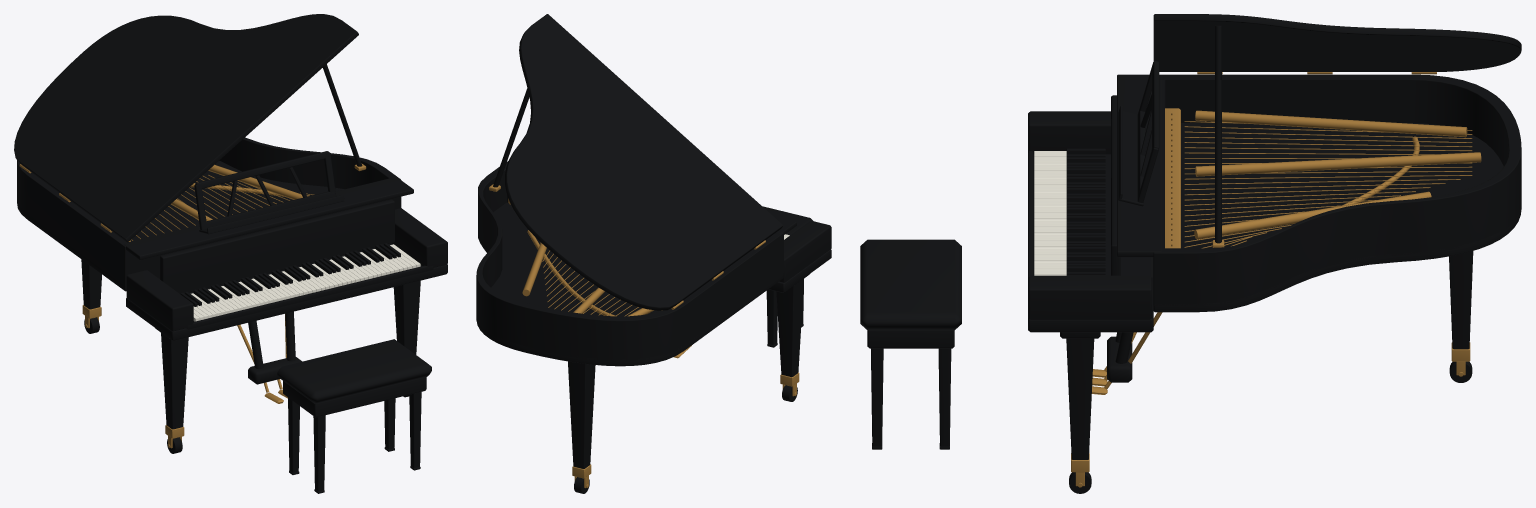
3 renders of one model, left to right at view 1: azimuth 30°, elevation 25°; view 2: azimuth 150°, elevation 25°; view 3: azimuth 270°, elevation 25°, orthographic. The views are drawn at different scales.
Parts seen in each view (by area): view 1: MESH_Black_lacquer, MESH_Ivory_keys, MESH_Warm_brass; view 2: MESH_Black_lacquer, MESH_Warm_brass; view 3: MESH_Black_lacquer, MESH_Warm_brass, MESH_Ivory_keys.
Boxes of the visible parts, x1,y1,x2,y2 form: MESH_Black_lacquer: [14, 14, 447, 493]; MESH_Ivory_keys: [191, 244, 420, 321]; MESH_Warm_brass: [19, 163, 366, 448]; MESH_Black_lacquer: [476, 14, 831, 493]; MESH_Warm_brass: [489, 184, 799, 488]; MESH_Black_lacquer: [860, 14, 1521, 493]; MESH_Warm_brass: [1071, 72, 1481, 487]; MESH_Ivory_keys: [1034, 151, 1066, 275].
Size of the model in its own units: 1.5 by 1.81 by 2.34.
